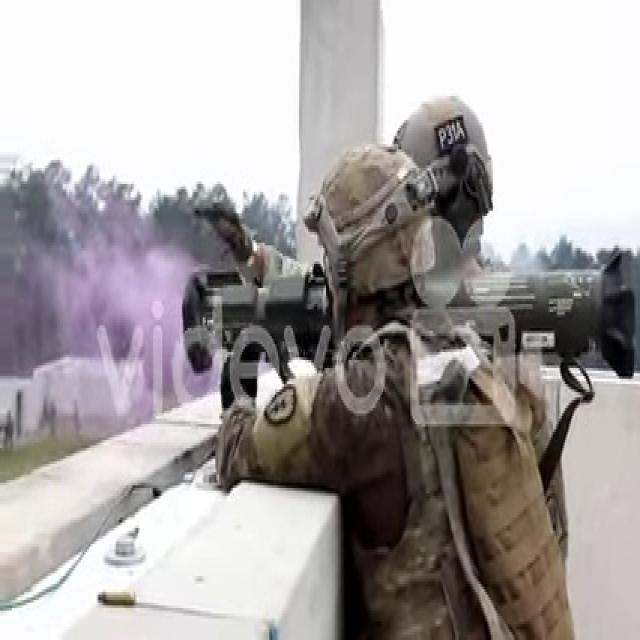bazooka: (173, 255, 640, 402)
